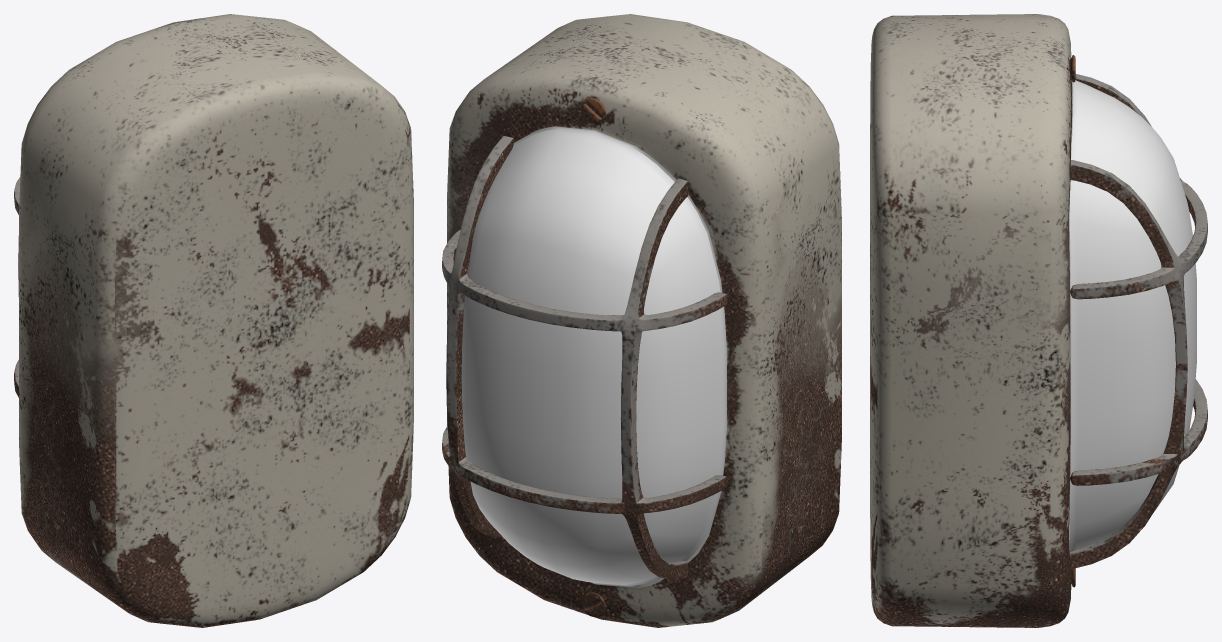
File: lampada de parede.fbx
The picture shows the model from 3 angles, left to right: view 1: azimuth 30°, elevation 25°; view 2: azimuth 150°, elevation 25°; view 3: azimuth 270°, elevation 25°; orthographic projection. The views are drawn at different scales.
Parts seen in each view (by area): view 1: lampada de pared_LOD0; view 2: lampada de pared_LOD0; view 3: lampada de pared_LOD0.
Boxes of the visible parts, x1=… form: lampada de pared_LOD0: x1=14, y1=14, x2=413, y2=627; lampada de pared_LOD0: x1=442, y1=14, x2=841, y2=627; lampada de pared_LOD0: x1=870, y1=14, x2=1207, y2=627.
Size of what is drawn, in the model's own units: 12.48 by 20.04 by 11.1.
Materials: 2 (1 with a texture image).
